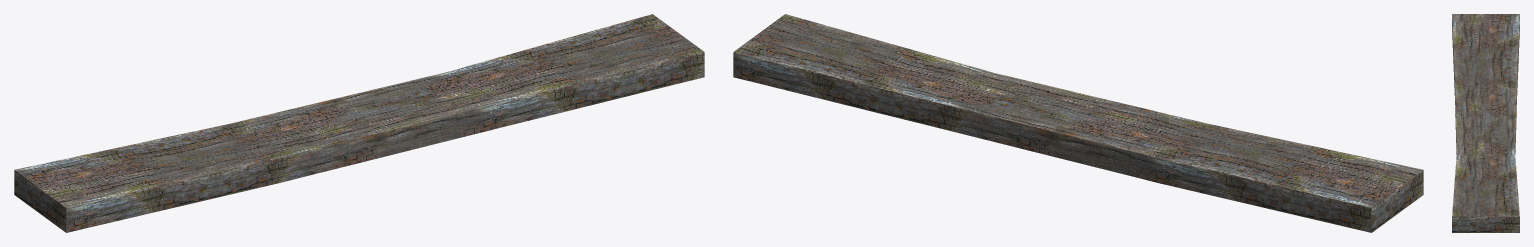
The model's file is Wood_board_1.FBX.
3 views of the same model, side by side, from view 1: azimuth 30°, elevation 25°; view 2: azimuth 150°, elevation 25°; view 3: azimuth 270°, elevation 25° (orthographic). The views are drawn at different scales.
Parts seen in each view (by area): view 1: Box03; view 2: Box03; view 3: Box03.
Part boxes in pixels (left/top/right/bottom): Box03: left=14, top=14, right=704, bottom=232; Box03: left=733, top=14, right=1423, bottom=232; Box03: left=1452, top=14, right=1519, bottom=232.
Bounding box in the file's own units: 500 × 22 × 70.67.
1 material, 1 textured.
